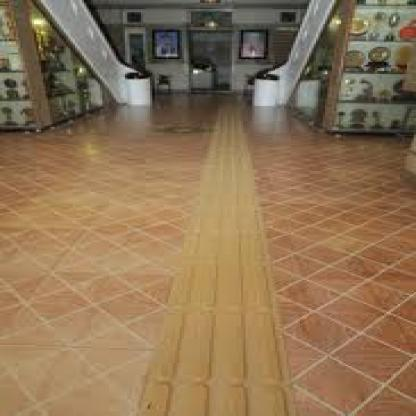podotacti: (123, 86, 380, 416)
